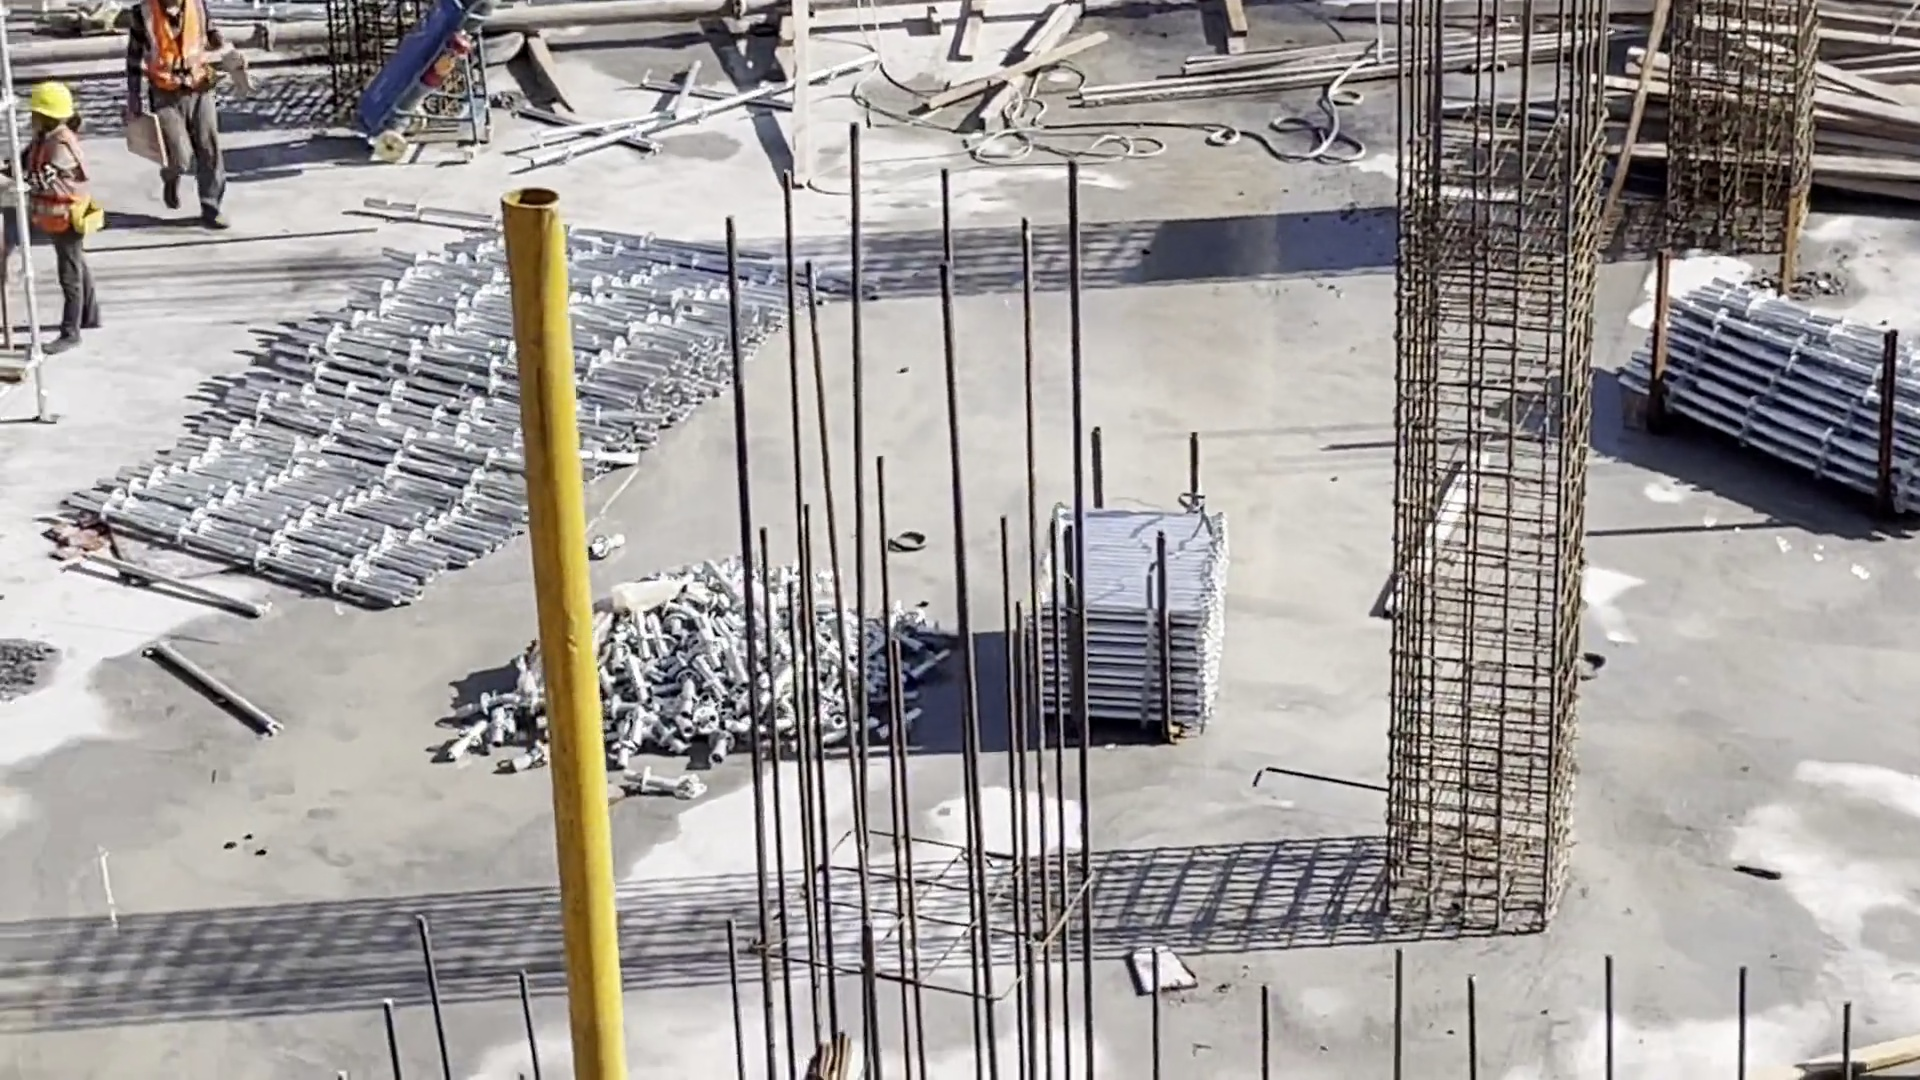helmet: (28, 86, 76, 120)
person: (114, 5, 241, 235), (17, 86, 110, 353)
scaffold: (67, 219, 887, 608), (1620, 268, 1920, 516), (1024, 507, 1225, 726)
vest: (28, 131, 96, 228), (137, 5, 214, 87)
